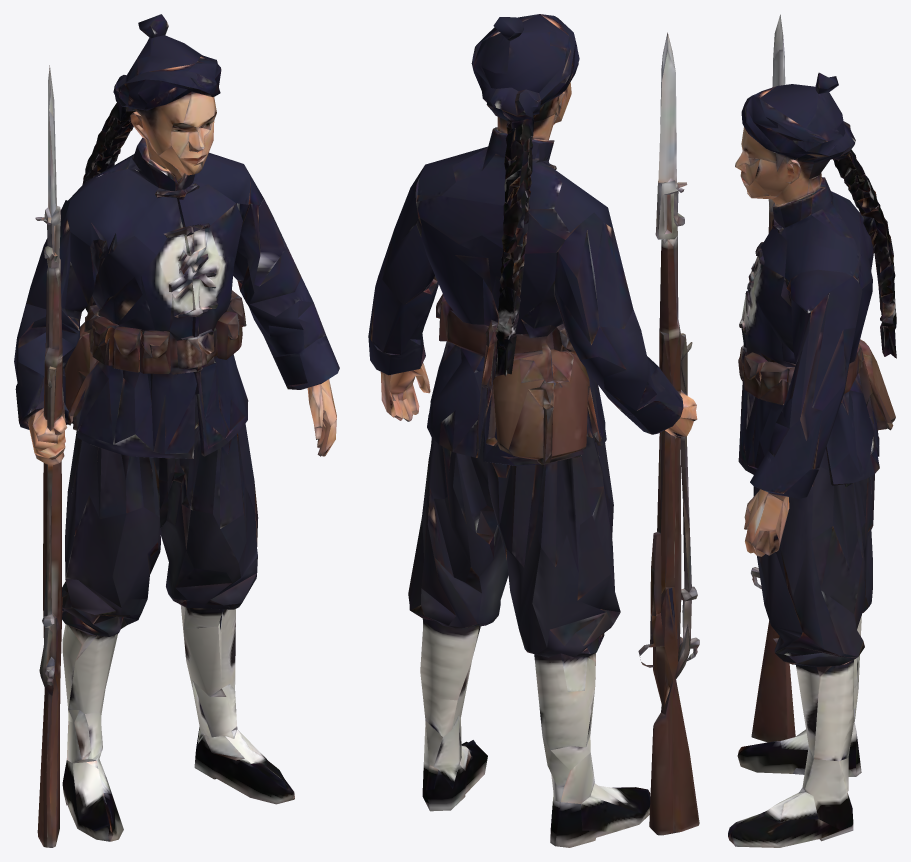
The model's file is qing_soldier.glb.
The picture shows the model from 3 angles, left to right: view 1: azimuth 30°, elevation 25°; view 2: azimuth 150°, elevation 25°; view 3: azimuth 270°, elevation 25°; orthographic projection. The views are drawn at different scales.
Bounding box in the file's own units: 0.7858 × 1.9 × 0.3973.
Materials: 1 (1 with a texture image).
